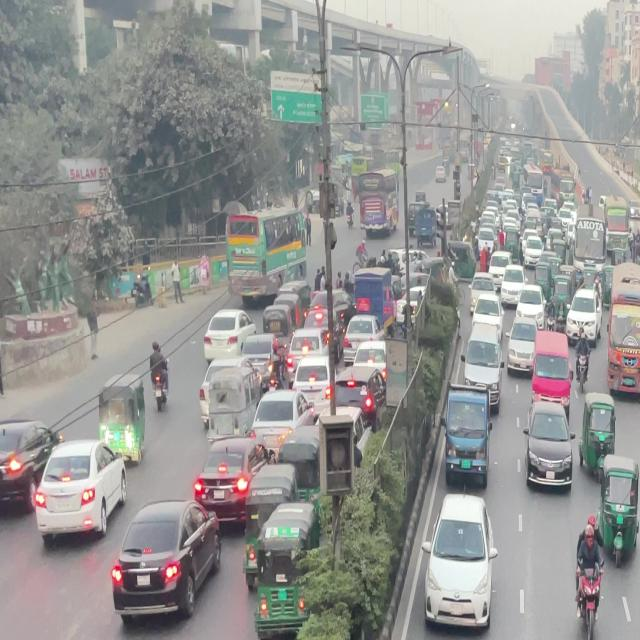bus: (227, 211, 312, 307), (528, 396, 578, 494), (603, 269, 640, 401)
car: (109, 500, 227, 630), (33, 443, 131, 546), (424, 493, 495, 631), (195, 438, 282, 528), (0, 417, 59, 516), (202, 306, 256, 362), (532, 328, 572, 401)
rickshaw: (245, 496, 320, 640), (597, 454, 640, 562)
van: (442, 386, 492, 489)
